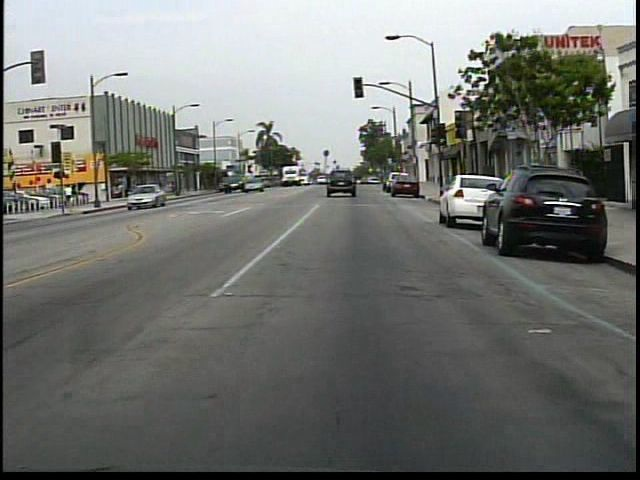person: (66, 182, 77, 210)
